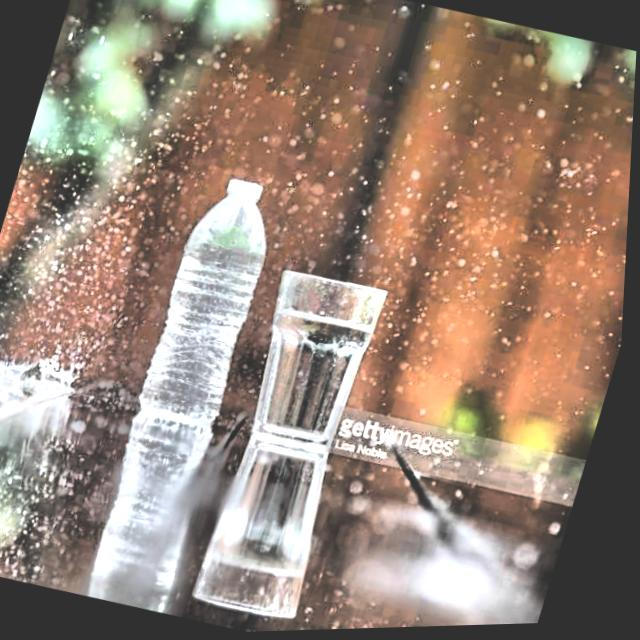Bottles: (118, 155, 307, 457)
